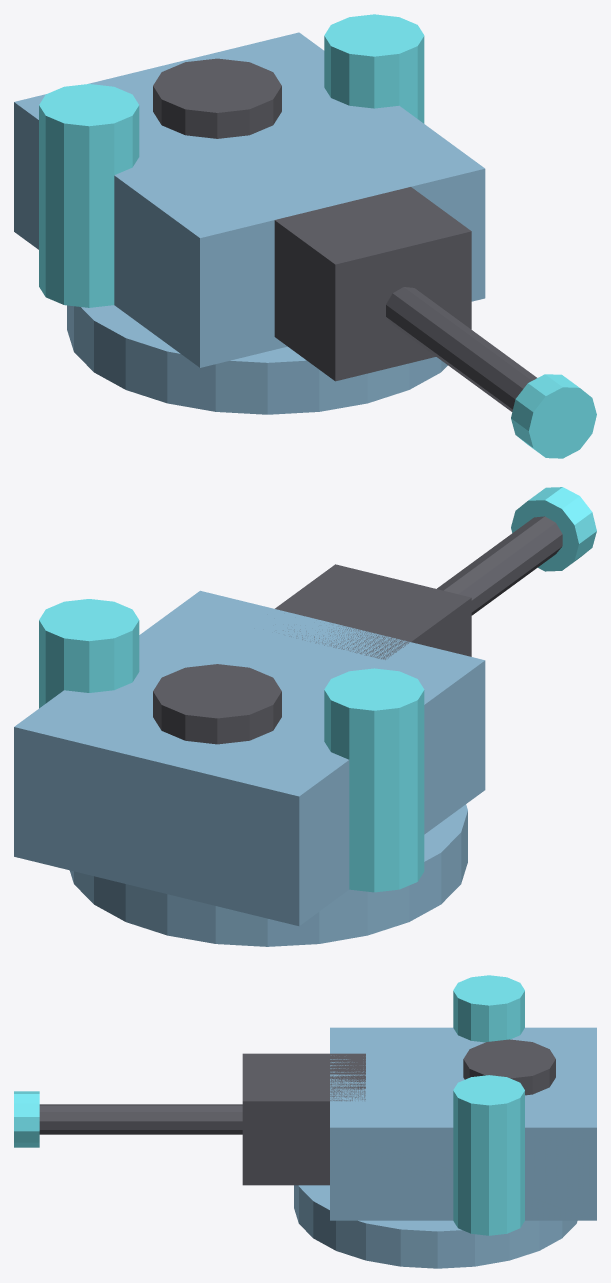
The model's file is LaserTurret.fbx.
The picture shows the model from 3 angles, top to bottom: view 1: azimuth 30°, elevation 25°; view 2: azimuth 150°, elevation 25°; view 3: azimuth 270°, elevation 25°; orthographic projection. The views are drawn at different scales.
Parts seen in each view (by area): view 1: Laser_Body; view 2: Laser_Body; view 3: Laser_Body.
Boxes of the visible parts, x1,y1,x2,y2 form: Laser_Body: (14,14,596,458); Laser_Body: (14,487,596,946); Laser_Body: (14,975,596,1268).
Bounding box in the file's own units: 0.6 × 1.13 × 0.36.
